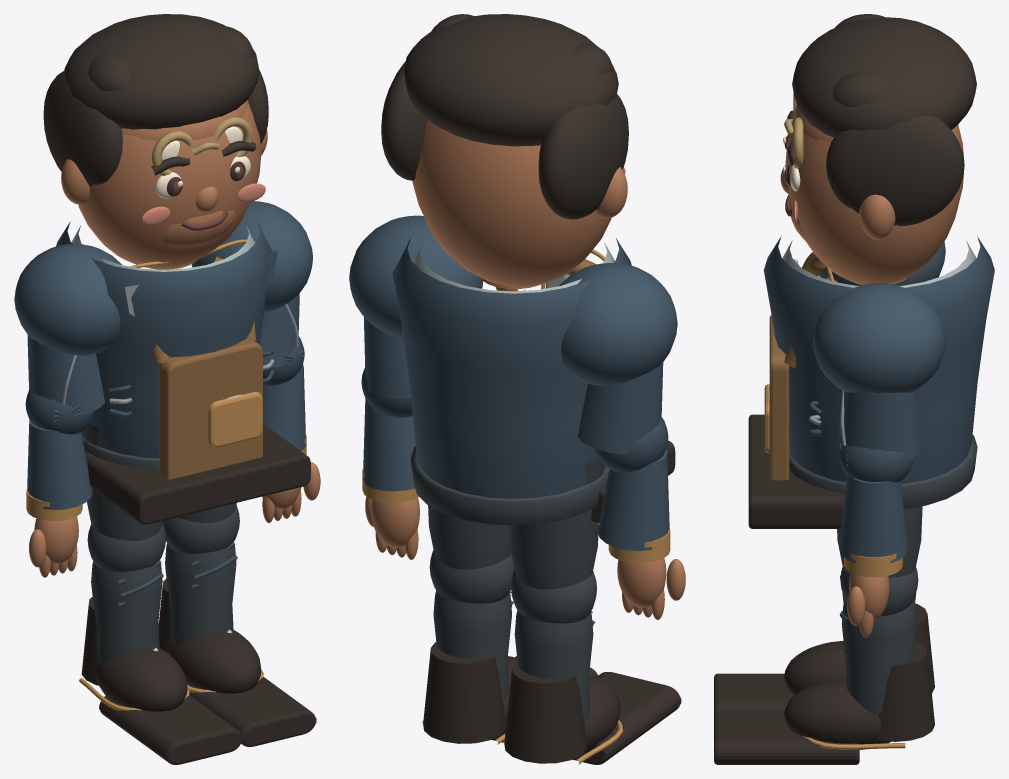
The model's file is finn.glb.
The picture shows the model from 3 angles, left to right: view 1: azimuth 30°, elevation 25°; view 2: azimuth 150°, elevation 25°; view 3: azimuth 270°, elevation 25°; orthographic projection. The views are drawn at different scales.
Parts seen in each view (by area): view 1: Tailored coat, Hair cap, Face, Apron panel, Tool belt, Shoulder -1, Sole -1, Trousers calf 1, Trousers calf -1, Side hair -1, Shoulder 1, Sole 1 (+28 smaller); view 2: Tailored coat, Hair cap, Face, Shoulder -1, Side hair -1, Shoulder 1, Boot shaft -1, Boot shaft 1, Trousers thigh -1, Trouser waistband, Sleeve forearm -1, Sleeve upper -1 (+20 smaller); view 3: Tailored coat, Hair cap, Shoulder 1, Side hair 1, Face, Tool belt, Sole 1, Trousers calf 1, Sleeve forearm 1, Leather toe 1, Sleeve upper 1, Boot shaft 1 (+17 smaller).
Boxes of the visible parts, left/top/right/bottom form: Tailored coat: left=56, top=221, right=272, bottom=458; Hair cap: left=64, top=14, right=259, bottom=129; Face: left=78, top=103, right=261, bottom=268; Apron panel: left=159, top=338, right=262, bottom=479; Tool belt: left=85, top=423, right=310, bottom=524; Shoulder -1: left=14, top=244, right=121, bottom=355; Sole -1: left=99, top=695, right=242, bottom=764; Trousers calf 1: left=165, top=543, right=236, bottom=644; Trousers calf -1: left=91, top=561, right=162, bottom=662; Side hair -1: left=43, top=71, right=122, bottom=186; Shoulder 1: left=191, top=201, right=312, bottom=312; Sole 1: left=186, top=677, right=316, bottom=746; Tailored coat: left=392, top=238, right=631, bottom=498; Hair cap: left=404, top=14, right=618, bottom=146; Face: left=412, top=119, right=611, bottom=286; Shoulder -1: left=559, top=263, right=677, bottom=385; Side hair -1: left=538, top=94, right=628, bottom=219; Shoulder 1: left=349, top=215, right=483, bottom=337; Boot shaft -1: left=504, top=662, right=586, bottom=763; Boot shaft 1: left=423, top=642, right=505, bottom=743; Trousers thigh -1: left=509, top=458, right=604, bottom=589; Trouser waistband: left=410, top=446, right=609, bottom=525; Sleeve forearm -1: left=597, top=449, right=669, bottom=550; Sleeve upper -1: left=578, top=362, right=663, bottom=454; Tailored coat: left=763, top=236, right=994, bottom=483; Hair cap: left=792, top=17, right=976, bottom=137; Shoulder 1: left=813, top=283, right=945, bottom=393; Side hair 1: left=826, top=116, right=964, bottom=225; Face: left=785, top=115, right=964, bottom=284; Tool belt: left=748, top=414, right=844, bottom=528; Sole 1: left=714, top=711, right=859, bottom=764; Trousers calf 1: left=841, top=600, right=916, bottom=715; Sleeve forearm 1: left=839, top=476, right=908, bottom=563; Leather toe 1: left=784, top=678, right=890, bottom=749; Sleeve upper 1: left=837, top=390, right=921, bottom=461; Boot shaft 1: left=877, top=641, right=934, bottom=741.
Bounding box in the file's own units: 1.24 × 2.72 × 0.9914.
